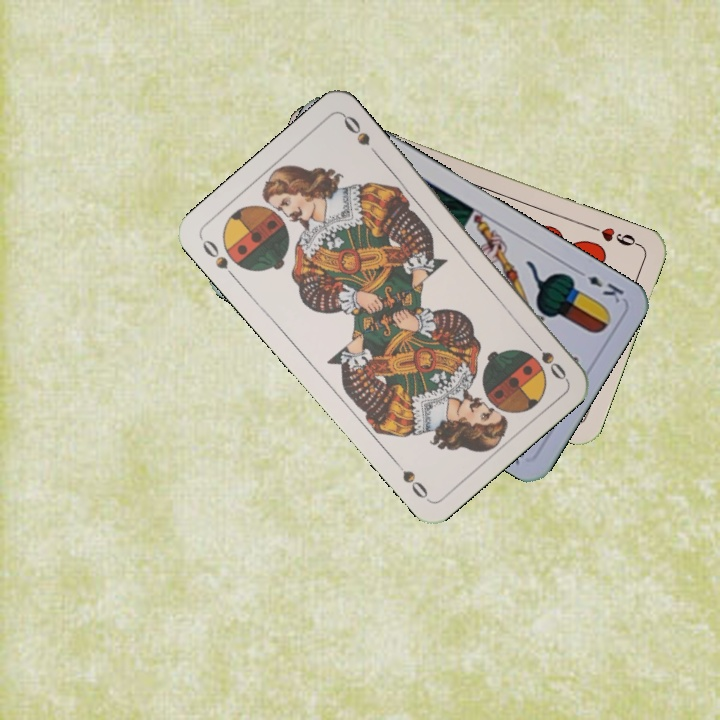EK: (572, 265, 627, 306)
H9: (586, 221, 643, 249)
SO: (525, 333, 569, 383), (197, 235, 240, 283)
